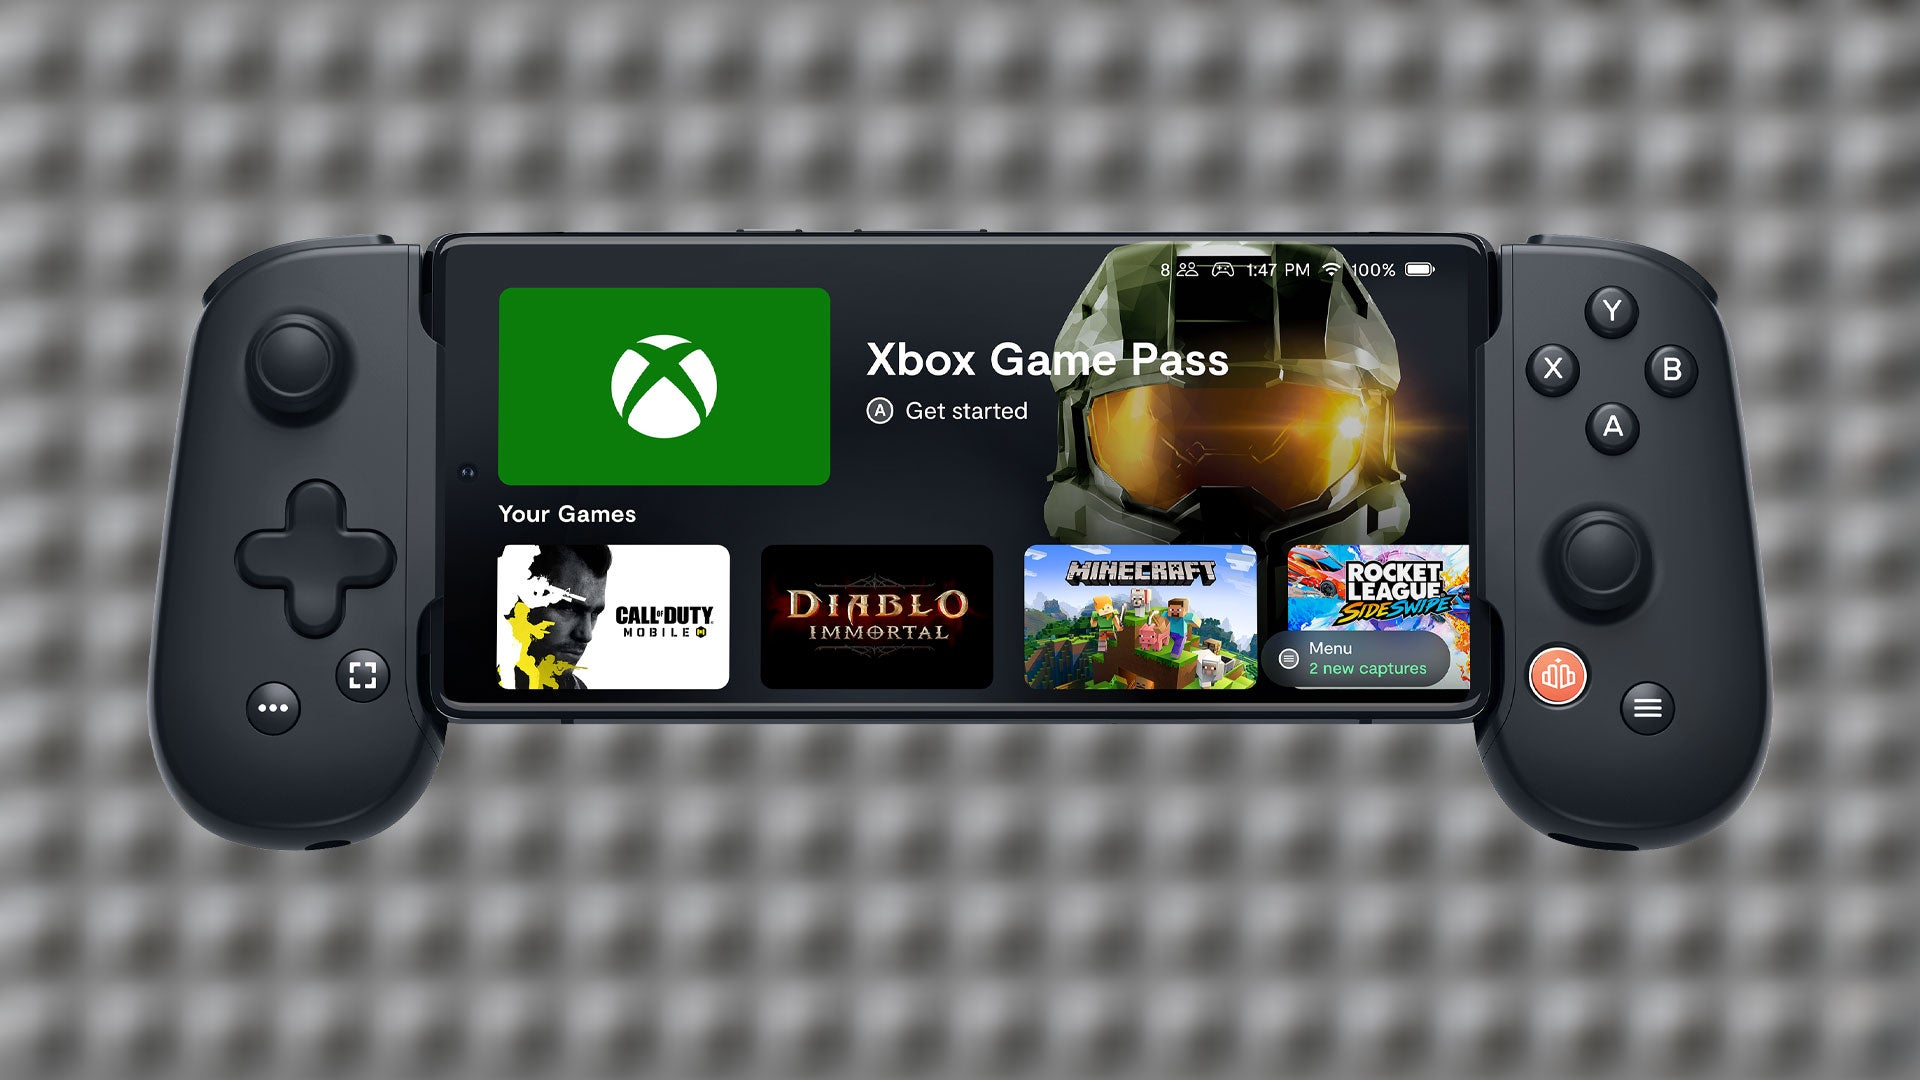controller: (149, 235, 1774, 855)
